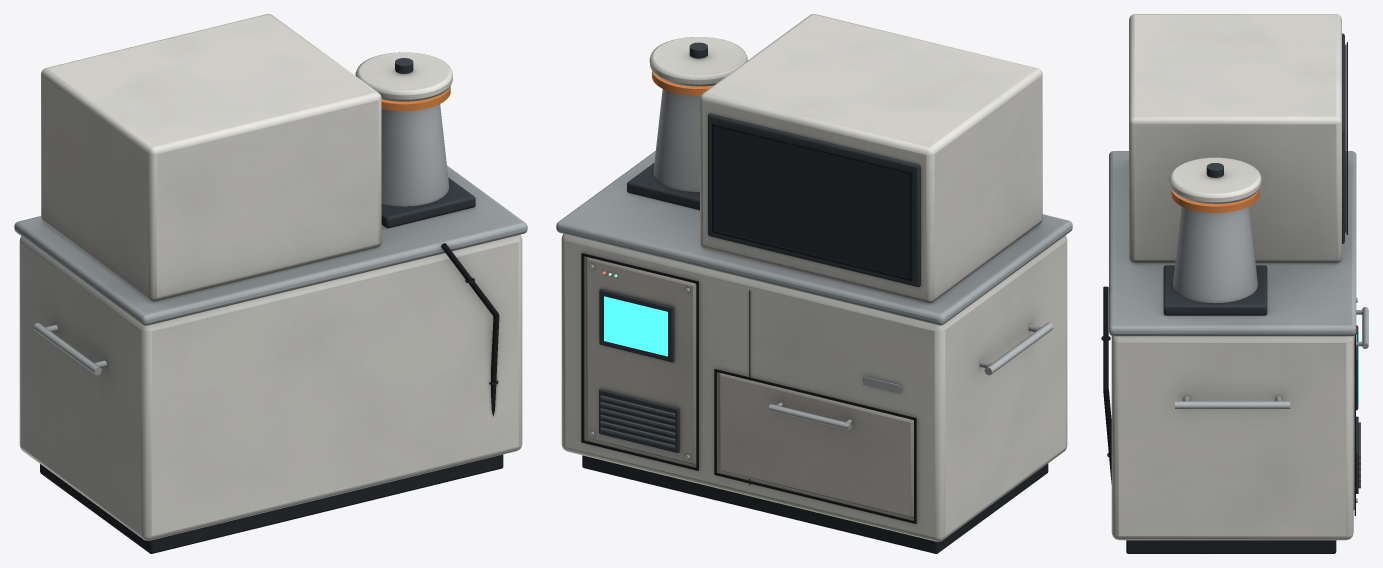
File: fabricator.glb
The picture shows the model from 3 angles, left to right: view 1: azimuth 30°, elevation 25°; view 2: azimuth 150°, elevation 25°; view 3: azimuth 270°, elevation 25°; orthographic projection. The views are drawn at different scales.
Visible parts, largest first — view 1: carcass_shell_white, chamber_shell_white, cap_panel_cool, plinth_deep_graphite, hopper_body_satin_alloy, hopper_lid_shell_white, hopper_cradle_frame_graphite, power_cable_black_rubber, side_rail_l_satin_alloy, hopper_band_accent_orange; view 2: carcass_shell_white, chamber_shell_white, chamber_frame_frame_graphite, chamber_window_dark_glass, Output_Drawer_front_panel_warm, cap_panel_cool, service_door_panel_warm, plinth_deep_graphite, hopper_body_satin_alloy, service_door_vent_dark_alloy, hopper_lid_shell_white, display_screen_glass_cyan (+7 smaller); view 3: carcass_shell_white, chamber_shell_white, cap_panel_cool, hopper_body_satin_alloy, hopper_lid_shell_white, plinth_deep_graphite, hopper_cradle_frame_graphite, side_rail_r_satin_alloy, power_cable_black_rubber, hopper_band_accent_orange, chamber_frame_frame_graphite, chamber_window_gasket_black_rubber (+5 smaller).
Boxes of the visible parts, x1,y1,x2,y2 form: carcass_shell_white: (19,234,522,540); chamber_shell_white: (41,14,381,301); cap_panel_cool: (14,165,527,325); plinth_deep_graphite: (40,454,503,553); hopper_body_satin_alloy: (381,104,449,206); hopper_lid_shell_white: (355,52,452,101); hopper_cradle_frame_graphite: (381,177,475,228); power_cable_black_rubber: (441,243,499,416); side_rail_l_satin_alloy: (33,323,106,375); hopper_band_accent_orange: (381,86,450,111); carcass_shell_white: (561,234,1067,541); chamber_shell_white: (700,14,1042,303); chamber_frame_frame_graphite: (708,113,920,286); chamber_window_dark_glass: (714,126,909,277); Output_Drawer_front_panel_warm: (718,373,913,518); cap_panel_cool: (556,151,1072,325); service_door_panel_warm: (585,257,696,465); plinth_deep_graphite: (582,455,1048,553); hopper_body_satin_alloy: (653,89,700,191); service_door_vent_dark_alloy: (599,389,679,452); hopper_lid_shell_white: (649,37,747,86); display_screen_glass_cyan: (604,296,667,356); carcass_shell_white: (1111,336,1353,540); chamber_shell_white: (1129,14,1341,263); cap_panel_cool: (1109,151,1356,336); hopper_body_satin_alloy: (1173,206,1257,303); hopper_lid_shell_white: (1169,157,1261,204); plinth_deep_graphite: (1126,540,1336,553); hopper_cradle_frame_graphite: (1163,265,1267,315); side_rail_r_satin_alloy: (1175,396,1290,409); power_cable_black_rubber: (1101,286,1111,483); hopper_band_accent_orange: (1171,189,1259,212); chamber_frame_frame_graphite: (1342,33,1344,243); chamber_window_gasket_black_rubber: (1346,42,1347,234).
Bounding box in the file's own units: 1.57 × 1.46 × 0.928.
Materials: 7 (1 with a texture image).
